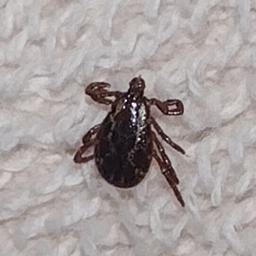Dermacentor variabilis: (75, 78, 188, 207)
